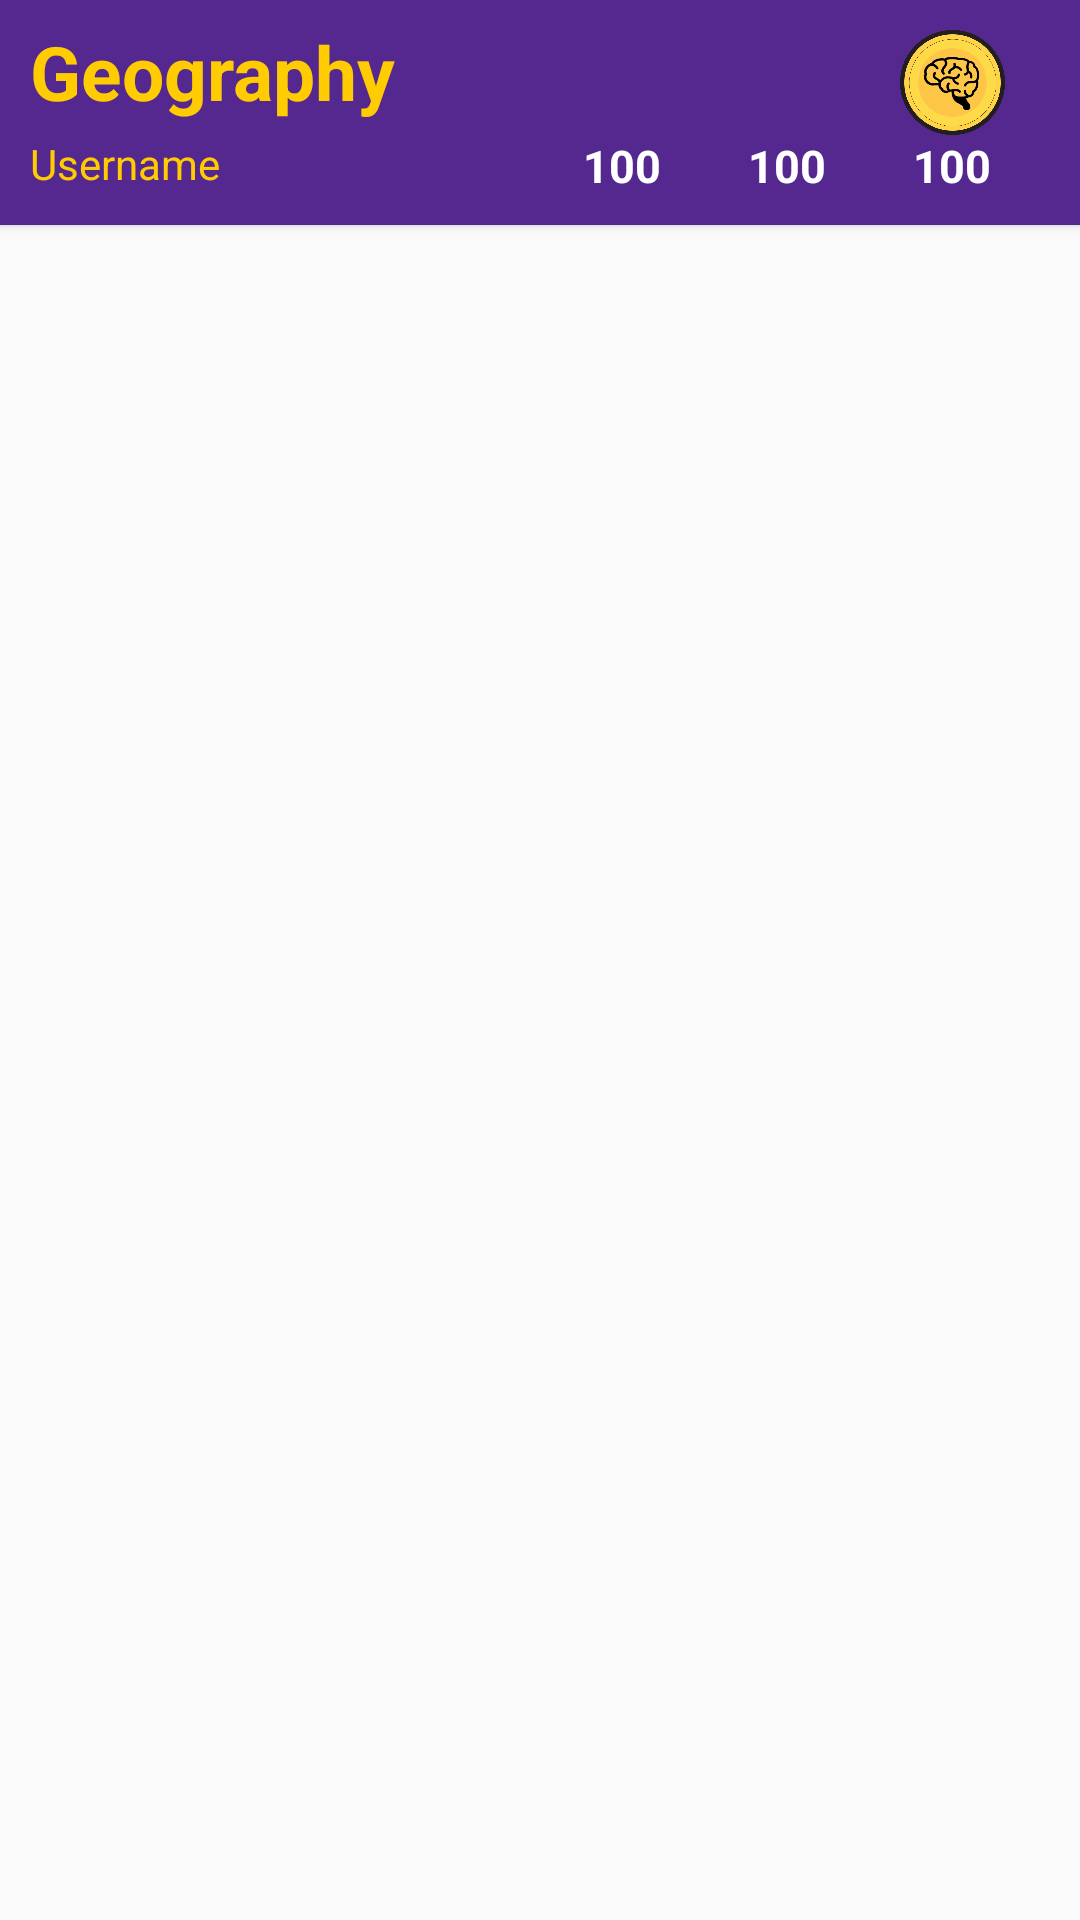

Locate icon controls on the screen. Image size 1080w x 1920h, boxes as (x1, y1, x2, y2).
braincoin: (900, 30, 1005, 135)
